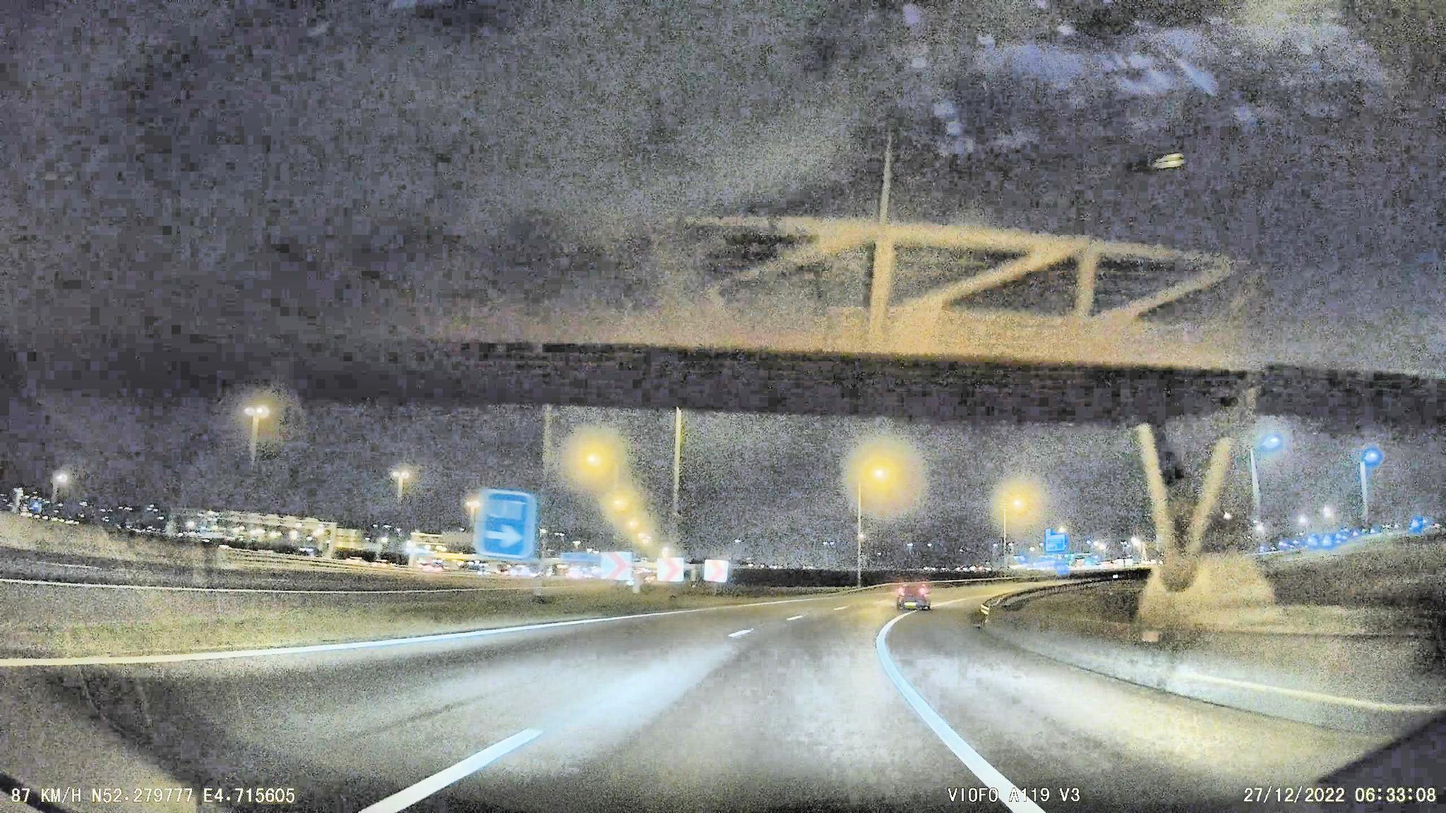Roads: (0, 599, 1304, 813)
